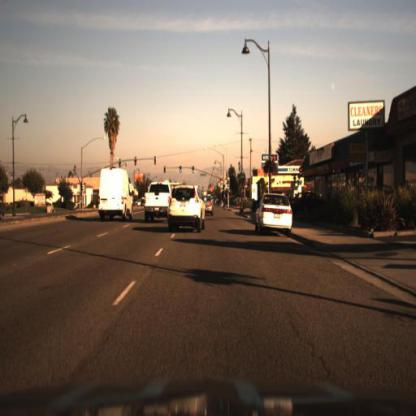biker: (220, 187, 229, 210)
car: (98, 167, 134, 225), (166, 185, 206, 236), (254, 193, 294, 236), (143, 180, 174, 223)
truck: (100, 172, 133, 228)
